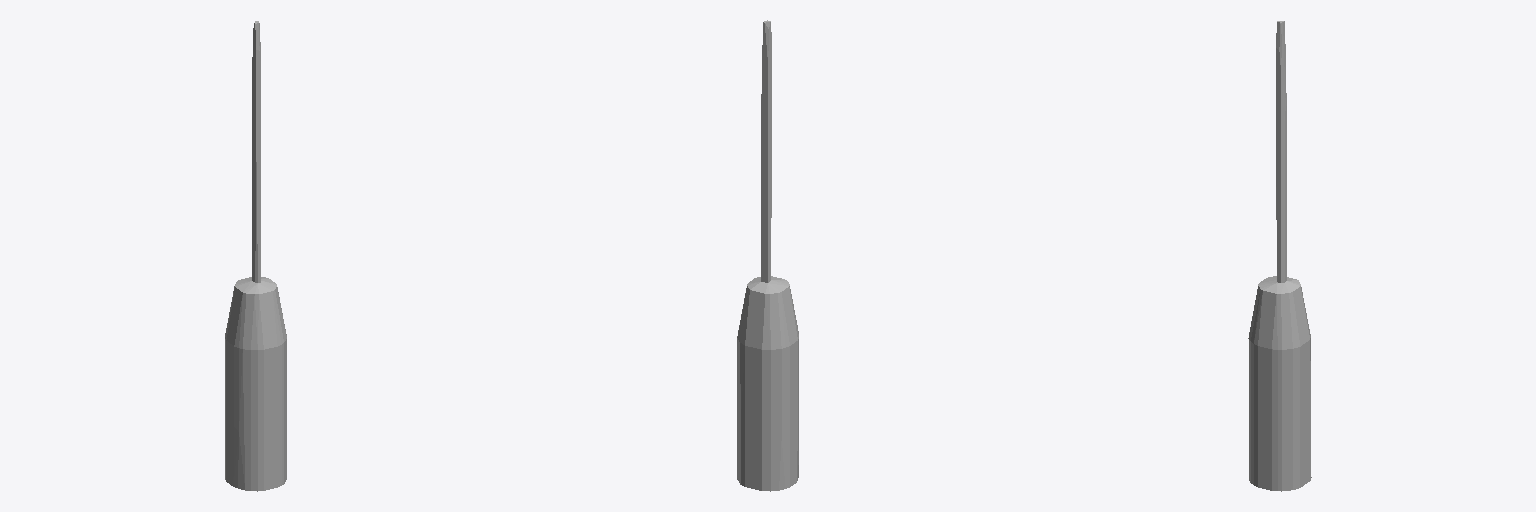
robot.urdf — root:
<robot name="root">
  <link name="link_9a65ee8f544ce558965094dba2eb878a_convex_piece_0">
    <inertial>
      <origin rpy="0 0 0" xyz="0 0 0"/>
      <mass value="2.16E-04"/>
      <inertia ixx="3.50E-07" ixy="4.83E-11" ixz="4.06E-09" iyy="3.50E-07" iyz="2.19E-09" izz="5.77E-08"/>
    </inertial>
    <visual>
      <origin rpy="0 0 0" xyz="0 0 0"/>
      <geometry>
        <mesh filename="9a65ee8f544ce558965094dba2eb878a_convex_piece_0.obj" scale="1.0000E+00"/>
      </geometry>
      <material name="">
        <color rgba="7.50E-01 7.50E-01 7.50E-01 1"/>
      </material>
    </visual>
    <collision>
      <origin rpy="0 0 0" xyz="0 0 0"/>
      <geometry>
        <mesh filename="9a65ee8f544ce558965094dba2eb878a_convex_piece_0.obj" scale="1.0000E+00"/>
      </geometry>
    </collision>
  </link>
  <link name="link_9a65ee8f544ce558965094dba2eb878a_convex_piece_1">
    <inertial>
      <origin rpy="0 0 0" xyz="0 0 0"/>
      <mass value="5.86E-06"/>
      <inertia ixx="-2.53E-08" ixy="1.72E-12" ixz="4.19E-10" iyy="-2.53E-08" iyz="-4.97E-12" izz="3.91E-11"/>
    </inertial>
    <visual>
      <origin rpy="0 0 0" xyz="0 0 0"/>
      <geometry>
        <mesh filename="9a65ee8f544ce558965094dba2eb878a_convex_piece_1.obj" scale="1.0000E+00"/>
      </geometry>
      <material name="">
        <color rgba="7.50E-01 7.50E-01 7.50E-01 1"/>
      </material>
    </visual>
    <collision>
      <origin rpy="0 0 0" xyz="0 0 0"/>
      <geometry>
        <mesh filename="9a65ee8f544ce558965094dba2eb878a_convex_piece_1.obj" scale="1.0000E+00"/>
      </geometry>
    </collision>
  </link>
  <joint name="link_9a65ee8f544ce558965094dba2eb878a_convex_piece_1_joint" type="fixed">
    <origin rpy="0 0 0" xyz="0 0 0"/>
    <parent link="link_9a65ee8f544ce558965094dba2eb878a_convex_piece_0"/>
    <child link="link_9a65ee8f544ce558965094dba2eb878a_convex_piece_1"/>
  </joint>
</robot>

--- What the picture shows (computed from the rendered views, not written in the file) ---
Views: 3 orthographic renders of the robot side by side, from view 1: azimuth 30°, elevation 25°; view 2: azimuth 150°, elevation 25°; view 3: azimuth 330°, elevation 25°.
Model root with 2 links and 1 joints (1 fixed), rooted at link_9a65ee8f544ce558965094dba2eb878a_convex_piece_0, posed every joint at zero.
Links seen in each view (by area): view 1: link_9a65ee8f544ce558965094dba2eb878a_convex_piece_0, link_9a65ee8f544ce558965094dba2eb878a_convex_piece_1; view 2: link_9a65ee8f544ce558965094dba2eb878a_convex_piece_0, link_9a65ee8f544ce558965094dba2eb878a_convex_piece_1; view 3: link_9a65ee8f544ce558965094dba2eb878a_convex_piece_0, link_9a65ee8f544ce558965094dba2eb878a_convex_piece_1.
Boxes of the visible links, <box> form: link_9a65ee8f544ce558965094dba2eb878a_convex_piece_0: <box>225,277,286,491</box>; link_9a65ee8f544ce558965094dba2eb878a_convex_piece_1: <box>252,21,260,282</box>; link_9a65ee8f544ce558965094dba2eb878a_convex_piece_0: <box>737,276,798,491</box>; link_9a65ee8f544ce558965094dba2eb878a_convex_piece_1: <box>761,20,771,282</box>; link_9a65ee8f544ce558965094dba2eb878a_convex_piece_0: <box>1248,276,1311,491</box>; link_9a65ee8f544ce558965094dba2eb878a_convex_piece_1: <box>1276,21,1286,282</box>.
Bounding box of the posed robot: 0.046 × 0.046 × 0.3909 m (x, y, z).
Meshes: 2 distinct files referenced, 2 mesh visuals loaded (2 OBJ).